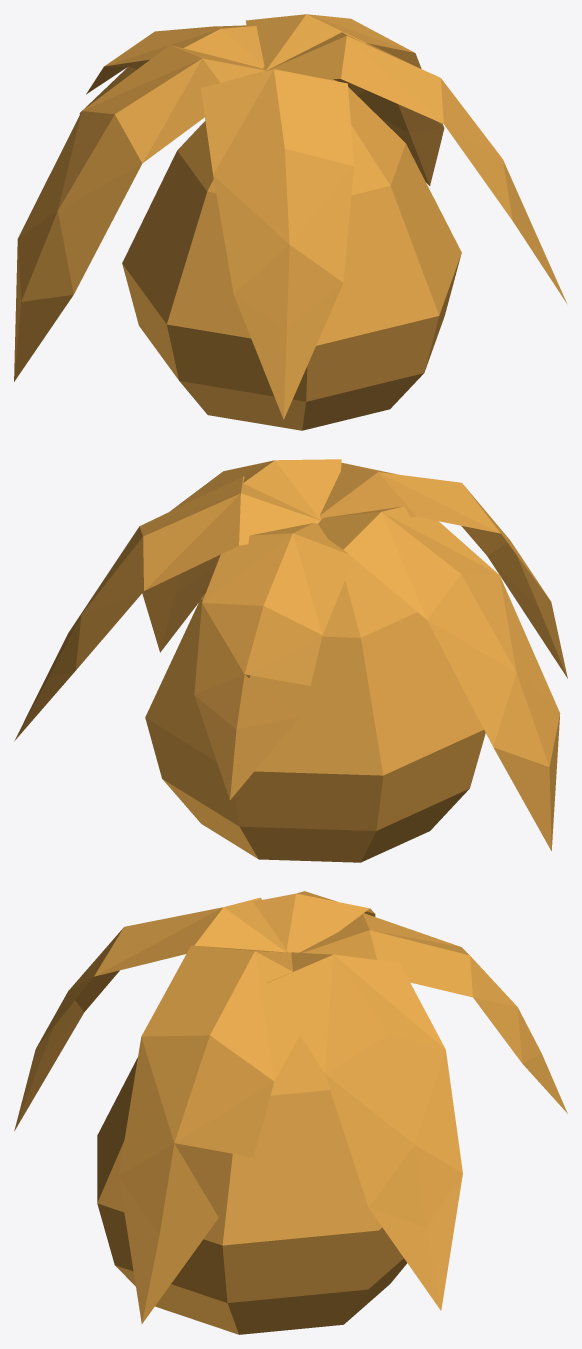
The model's file is palm-small.fbx.
3 renders of one model, top to bottom at view 1: azimuth 30°, elevation 25°; view 2: azimuth 150°, elevation 25°; view 3: azimuth 270°, elevation 25°, orthographic. The views are drawn at different scales.
Visible parts, largest first — view 1: palm-small; view 2: palm-small; view 3: palm-small.
Boxes of the visible parts, <box> form: palm-small: <box>14,14,566,430</box>; palm-small: <box>14,459,567,862</box>; palm-small: <box>14,891,567,1334</box>.
Size of the model in its own units: 3.05 by 2.07 by 2.91.
